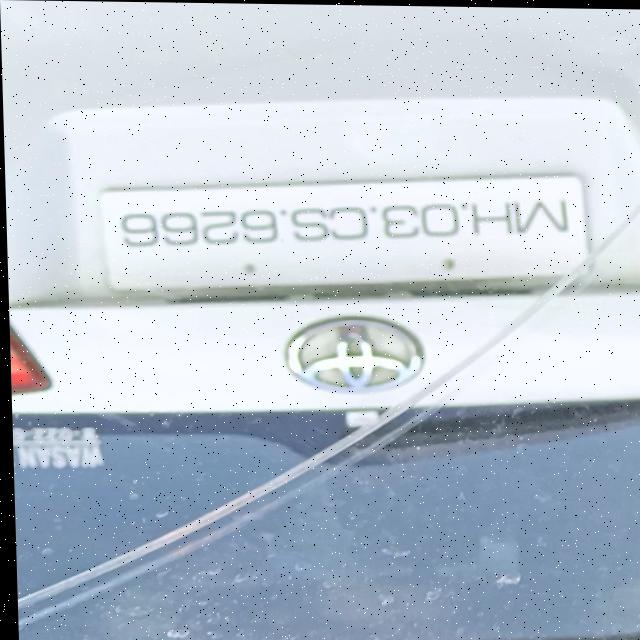plate: (96, 167, 592, 300)
